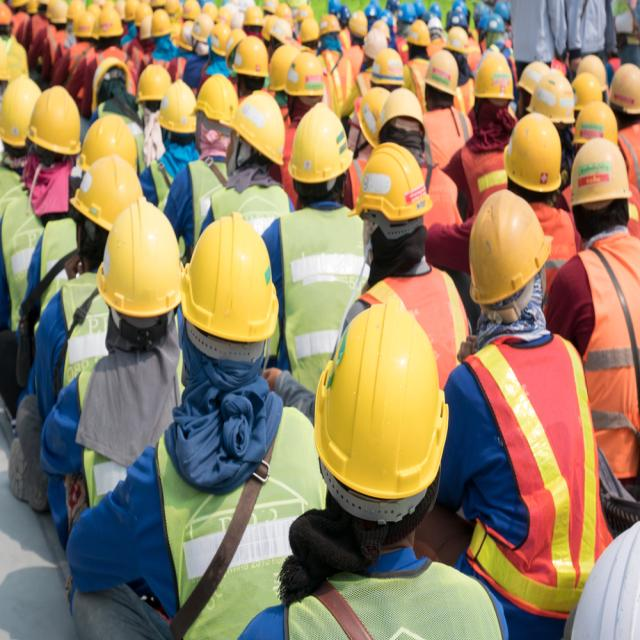helmet: (314, 297, 449, 531), (179, 213, 281, 364), (95, 197, 183, 321), (468, 188, 554, 308), (347, 141, 434, 243), (286, 101, 354, 199), (69, 154, 144, 231), (502, 111, 562, 196), (569, 137, 633, 209), (26, 87, 81, 154), (77, 114, 138, 174), (0, 74, 42, 149)
vest: (464, 324, 619, 629)
